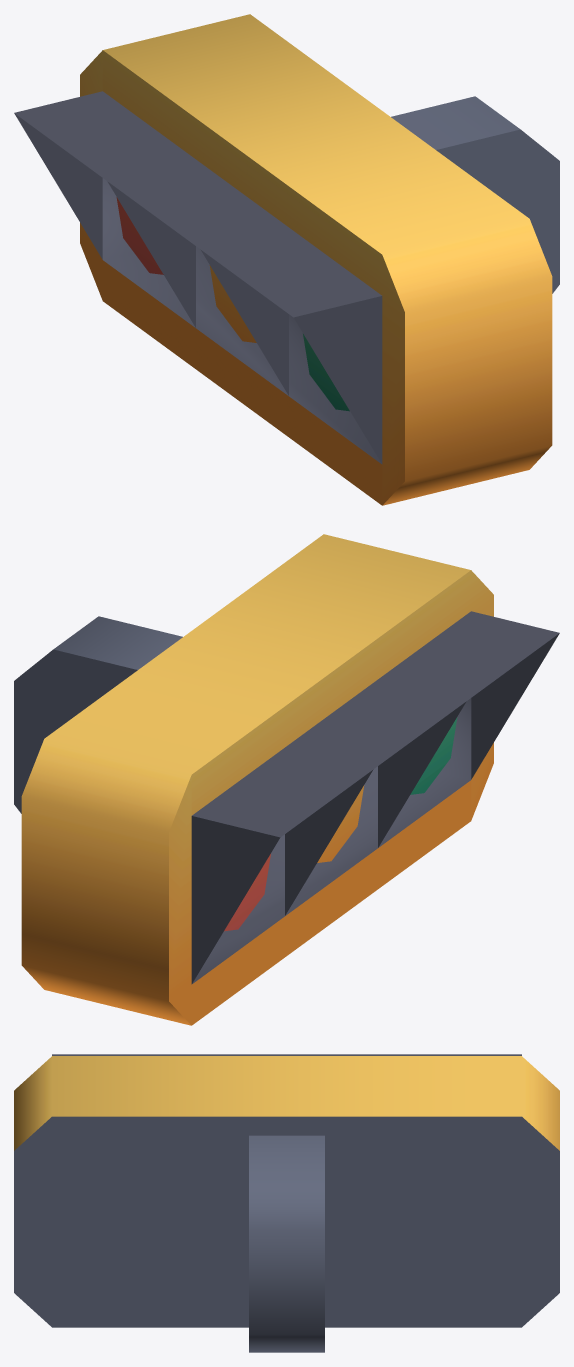
File: traffic-light-object-horizontal.glb
3 renders of one model, top to bottom at view 1: azimuth 30°, elevation 25°; view 2: azimuth 150°, elevation 25°; view 3: azimuth 270°, elevation 25°, orthographic. The views are drawn at different scales.
Visible parts, largest first — view 1: traffic-light-object-horizontal; view 2: traffic-light-object-horizontal; view 3: traffic-light-object-horizontal.
Part boxes in pixels (bbox=[...]): traffic-light-object-horizontal: bbox=[14, 14, 559, 505]; traffic-light-object-horizontal: bbox=[14, 534, 559, 1025]; traffic-light-object-horizontal: bbox=[14, 1054, 559, 1352].
Size of the model in its own units: 0.0976 by 0.0611 by 0.1432.
1 material, 1 textured.
